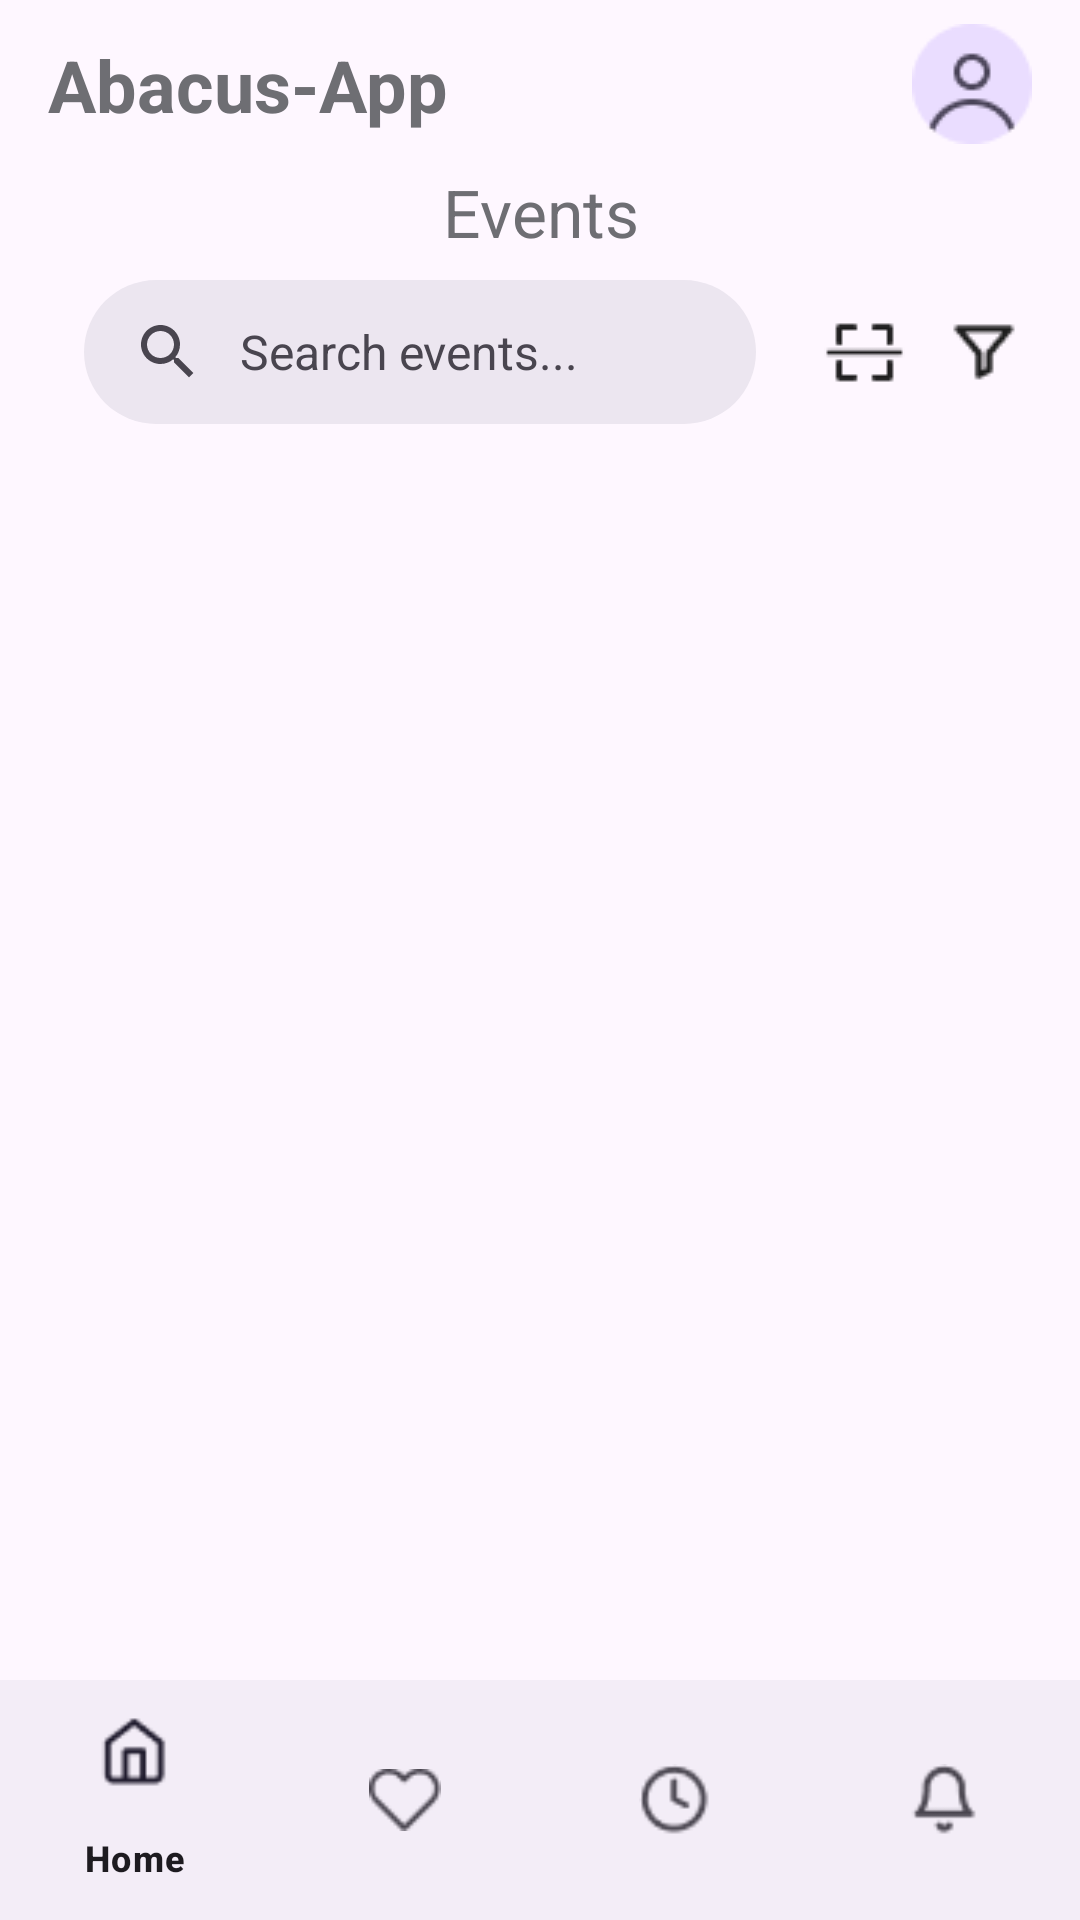

Where icons sit on this 1080 x 1920 app screen, as (x1, y1, x2, y2):
Profile: (912, 24, 1032, 144)
Scan QR code: (826, 323, 903, 382)
